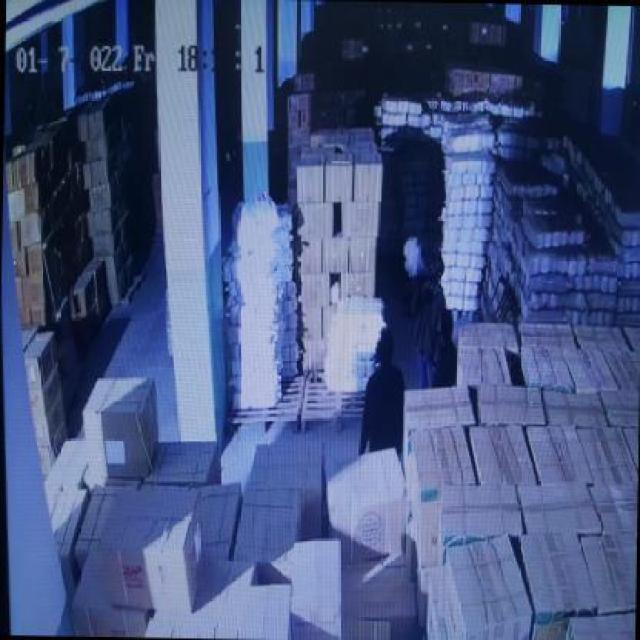fire: (400, 232, 423, 282)
